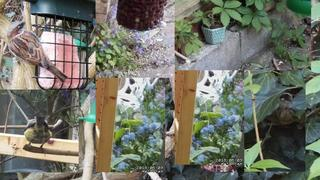blue tit: (24, 116, 52, 153)
sparrow: (7, 21, 69, 83)
